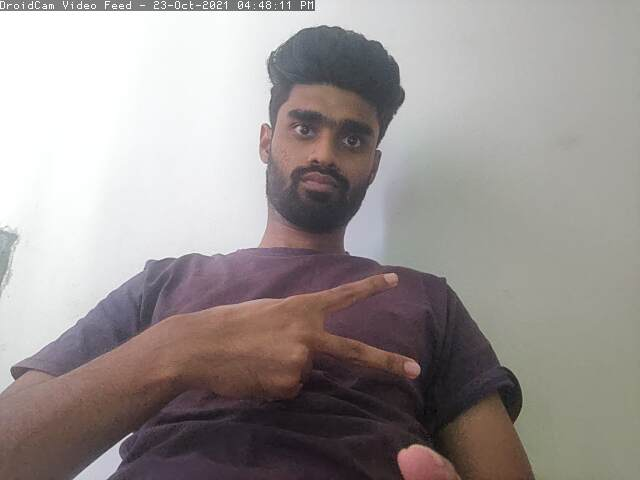Victory: (183, 267, 420, 420)
